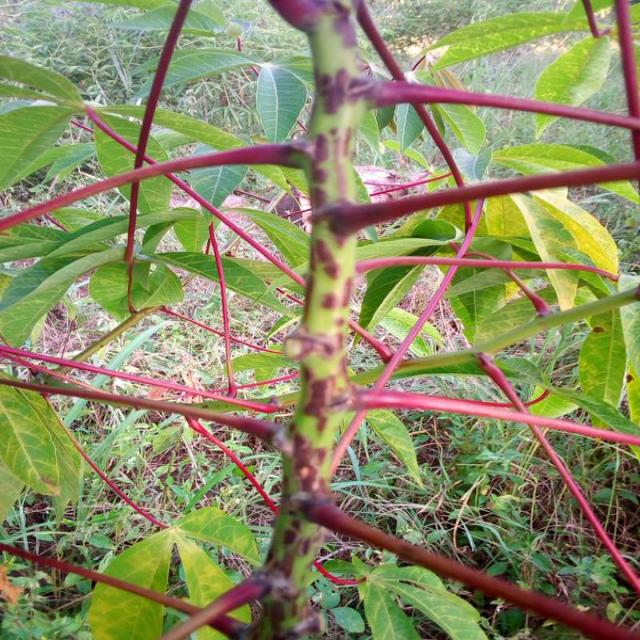cassava leaf: (85, 504, 262, 638), (0, 373, 84, 528)
